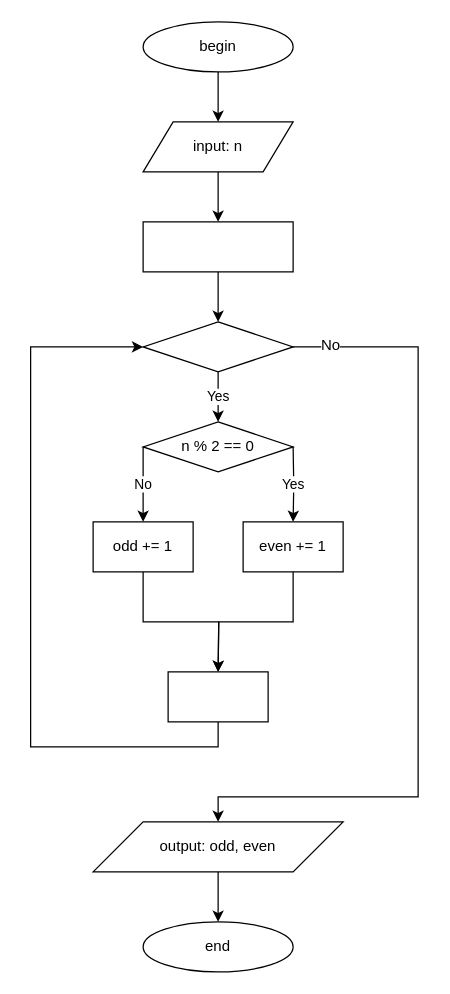
The diagram is 450 pixels wide and 994 high, and some of its shapes have lost their labels. The centre of each missing label's shape, as x and y in pixels:
"even = 0 odd = 0" goes at [217,246].
"n = n//10" goes at [217,696].
"whlie n != 0" goes at [217,346].
